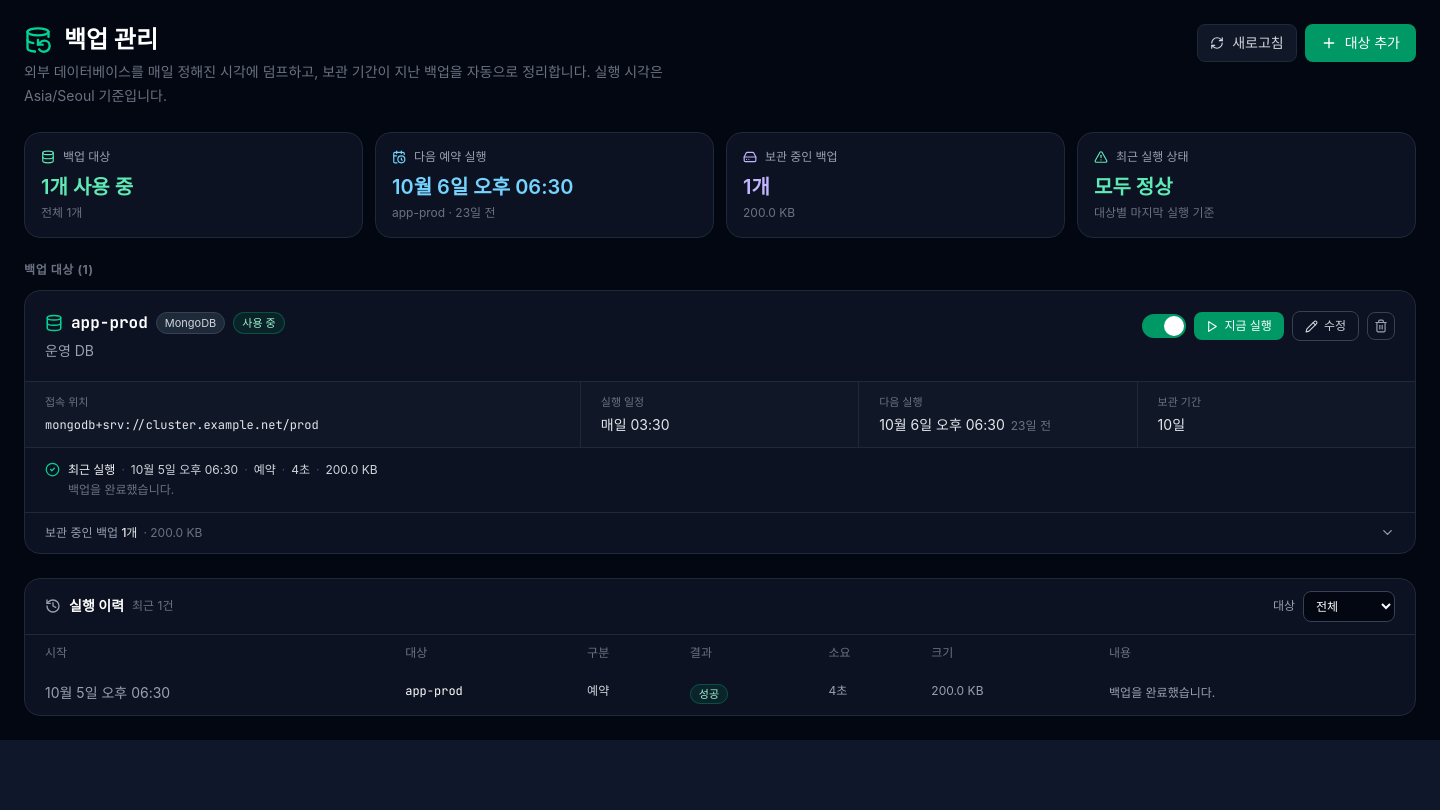
Test: BackupView › 보관 중인 백업은 펼쳐야 목록과 복원 방법이 보인다
This screenshot has width=1440, height=810.
expect the heading "app-prod" is shown: met, box [71,311,148,335]
expect the text "/backups/app-prod/2026-10-05_18-30-02" is not shown: met
Click the button "보관 중인 백업 1개· 200.0 KB".
click(82, 532)  # box [25,512,1415,552]
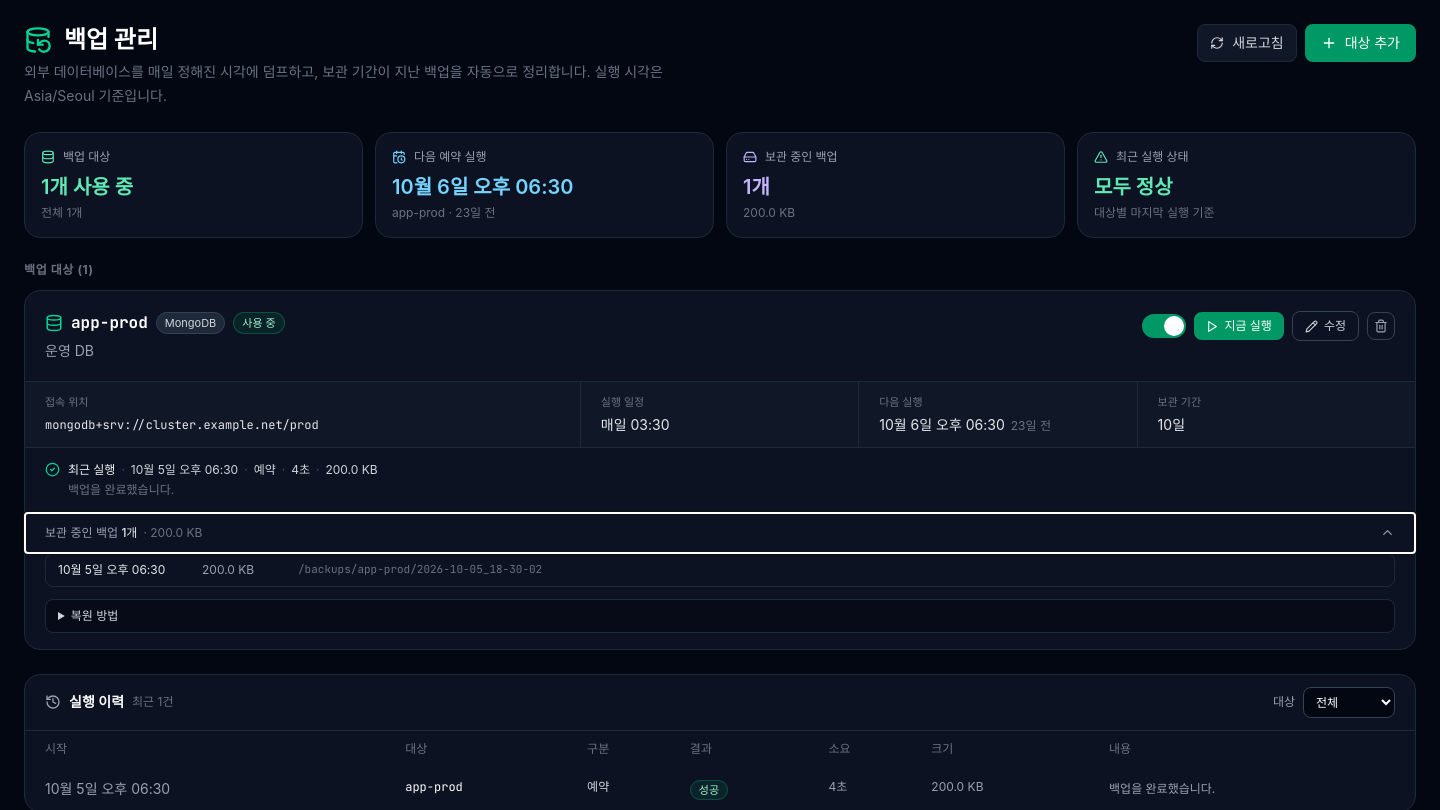
expect the text "/backups/app-prod/2026-10-05_18-30-02" is shown: met, box [298,562,542,577]
expect the heading "복원 방법" is shown: met, box [71,608,118,622]
